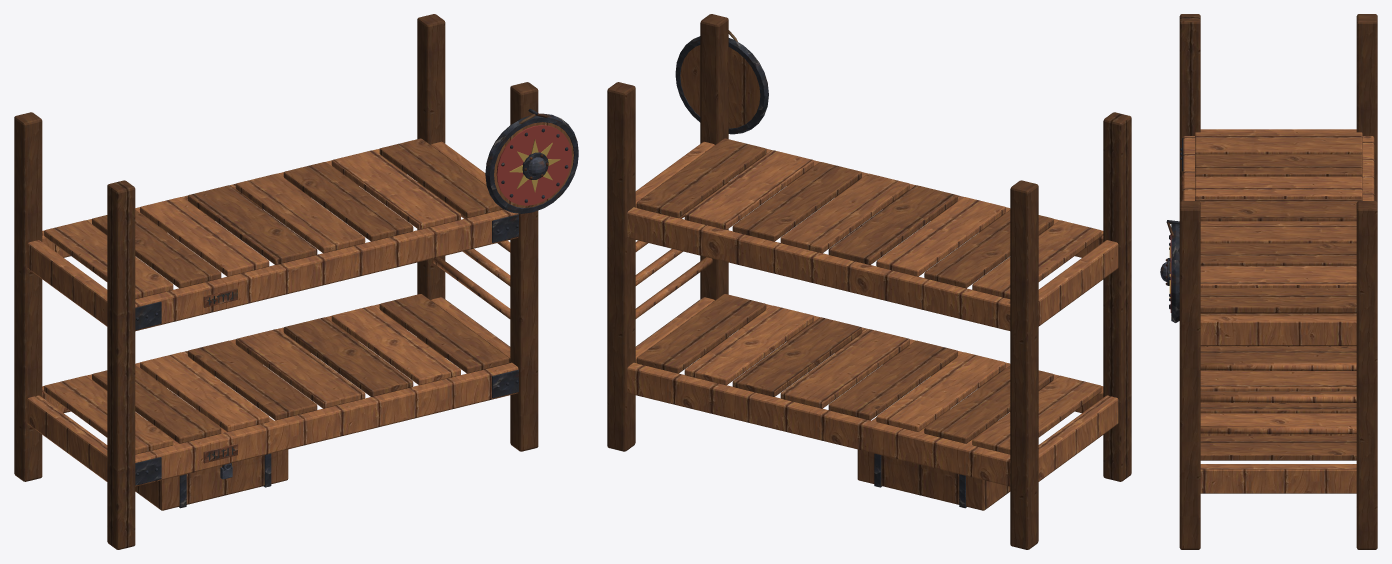
The model's file is hs_guard_bunk.glb.
3 views of the same model, side by side, from view 1: azimuth 30°, elevation 25°; view 2: azimuth 150°, elevation 25°; view 3: azimuth 270°, elevation 25° (orthographic). The views are drawn at different scales.
Parts seen in each view (by area): view 1: model; view 2: model; view 3: model.
Part boxes in pixels (x1=…): model: x1=14, y1=14, x2=578, y2=549; model: x1=607, y1=14, x2=1131, y2=549; model: x1=1160, y1=14, x2=1377, y2=549.
Size of the model in its own units: 2.16 by 1.62 by 0.9332.
12 materials, 9 textured.
